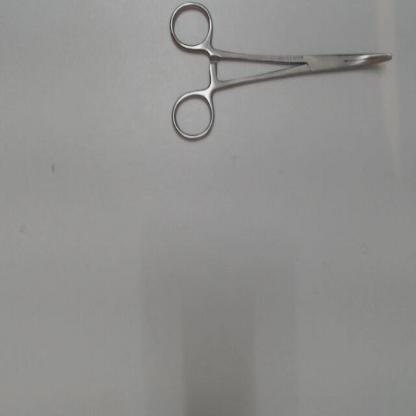Crile Artery Forceps: (165, 2, 398, 147)
